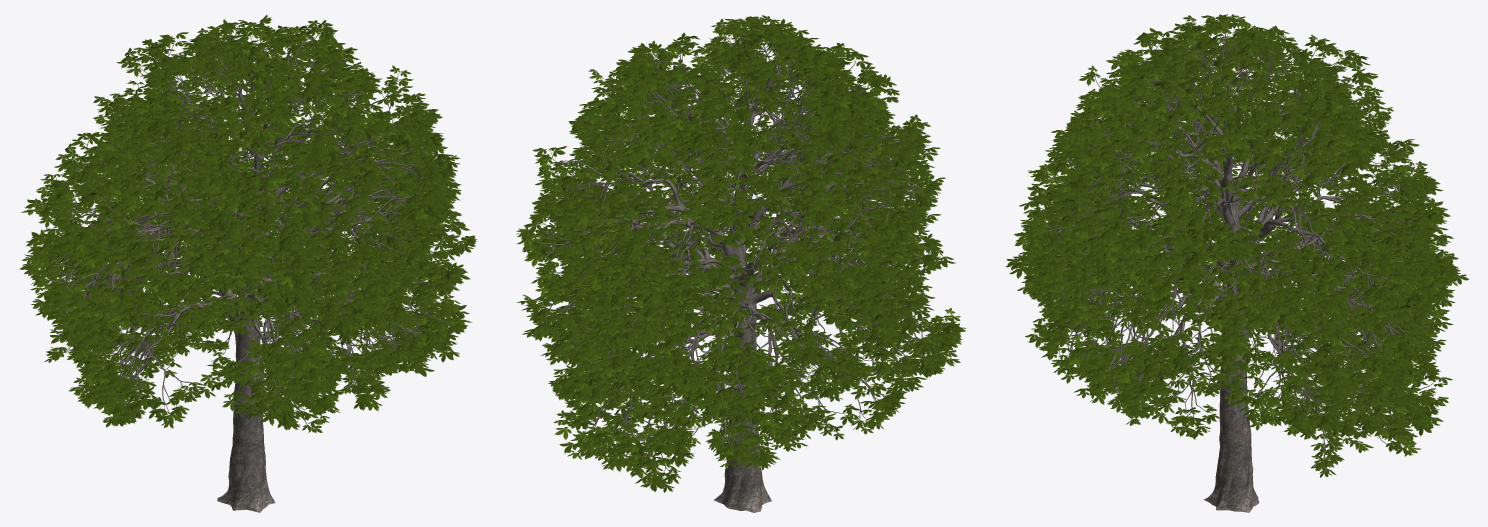
Rendered from marronnier-3.glb.
3 renders of one model, left to right at view 1: azimuth 30°, elevation 25°; view 2: azimuth 150°, elevation 25°; view 3: azimuth 270°, elevation 25°, orthographic.
Parts seen in each view (by area): view 1: Aesculus_X_carnea_HD; view 2: Aesculus_X_carnea_HD; view 3: Aesculus_X_carnea_HD.
Part boxes in pixels (x1,y1,x2,y2): Aesculus_X_carnea_HD: (19,15,477,512); Aesculus_X_carnea_HD: (516,15,966,512); Aesculus_X_carnea_HD: (1005,14,1469,512).
Bounding box in the file's own units: 11.54 × 12.88 × 11.66.
Materials: 7 (7 with a texture image).
